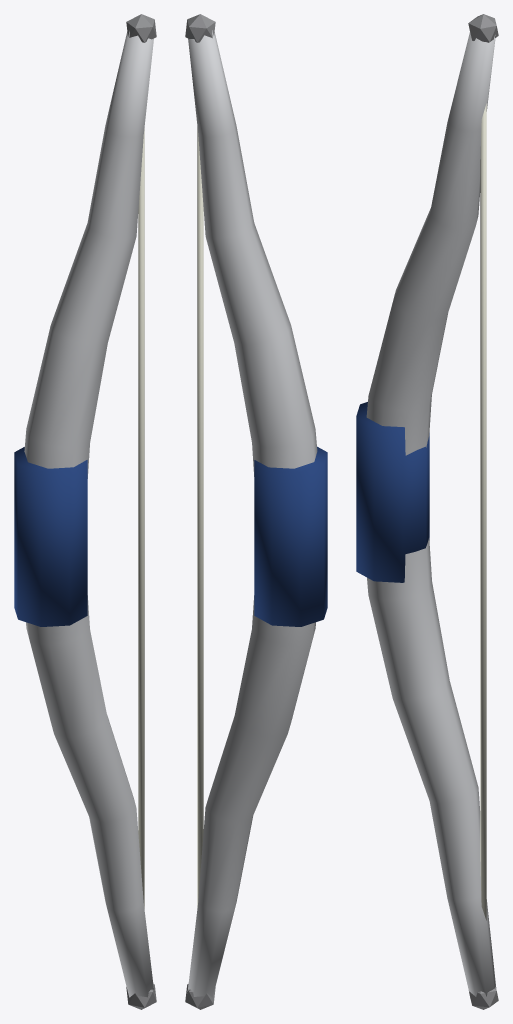
The model's file is silver_bow.glb.
3 views of the same model, side by side, from view 1: azimuth 30°, elevation 25°; view 2: azimuth 150°, elevation 25°; view 3: azimuth 330°, elevation 25° (orthographic).
Visible parts, largest first — view 1: silver_bow_v0; view 2: silver_bow_v0; view 3: silver_bow_v0.
Part boxes in pixels (x1,y1,x2,y2): silver_bow_v0: (14,14,156,1009); silver_bow_v0: (185,14,327,1009); silver_bow_v0: (356,14,498,1009).
Size of the model in its own units: 0.1661 by 1.16 by 0.08.
